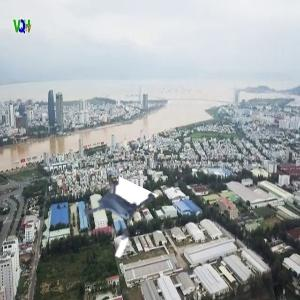drone: (69, 176, 149, 256)
